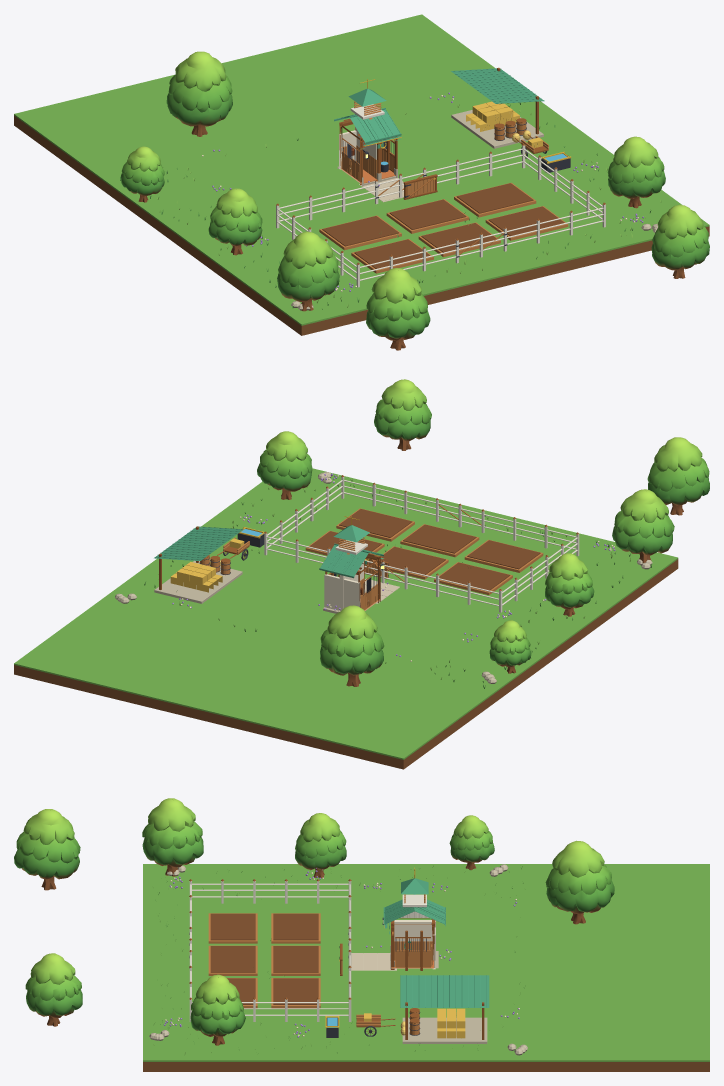
Rendered from Ranch.glb.
The picture shows the model from 3 angles, top to bottom: view 1: azimuth 30°, elevation 25°; view 2: azimuth 150°, elevation 25°; view 3: azimuth 270°, elevation 25°; orthographic projection. The views are drawn at different scales.
Visible parts, largest first — view 1: GROUND • turf, GROUND • earth, FIELD • Limewashed timber, TREES • round 6, TREES • round 4, TREES • round 2, TREES • round 5, TREES • round 3, TREES • round 7, SHED • Sage standing seam roof, TREES • round 1, FIELD • bed 1 soil (+10 smaller); view 2: GROUND • turf, GROUND • earth, FIELD • Limewashed timber, TREES • round 6, TREES • round 4, TREES • round 2, TREES • round 5, TREES • round 3, TREES • round 7, SHED • Sage standing seam roof, TREES • round 1, FIELD • bed 5 soil (+9 smaller); view 3: GROUND • turf, GROUND • earth, TREES • round 6, TREES • round 4, TREES • round 2, SHED • Sage standing seam roof, TREES • round 5, FIELD • Limewashed timber, TREES • round 3, TREES • round 7, TREES • round 1, SHED • Foundation limestone (+13 smaller).
Boxes of the visible parts, box(x1,y1,x2,y2) form: GROUND • turf: box(14, 14, 709, 325); GROUND • earth: box(14, 115, 709, 335); FIELD • Limewashed timber: box(276, 145, 605, 287); TREES • round 6: box(166, 51, 232, 136); TREES • round 4: box(366, 268, 430, 350); TREES • round 2: box(277, 231, 339, 311); TREES • round 5: box(651, 204, 709, 278); TREES • round 3: box(607, 136, 665, 208); TREES • round 7: box(208, 188, 262, 255); SHED • Sage standing seam roof: box(451, 68, 544, 103); TREES • round 1: box(120, 146, 164, 202); FIELD • bed 1 soil: box(322, 216, 398, 246); GROUND • turf: box(14, 468, 678, 759); GROUND • earth: box(14, 559, 678, 769); FIELD • Limewashed timber: box(264, 477, 579, 612); TREES • round 6: box(320, 605, 384, 686); TREES • round 4: box(647, 437, 709, 515); TREES • round 2: box(612, 489, 674, 562); TREES • round 5: box(374, 379, 431, 450); TREES • round 3: box(257, 431, 312, 499); TREES • round 7: box(545, 553, 594, 616); SHED • Sage standing seam roof: box(154, 527, 242, 560); TREES • round 1: box(489, 620, 531, 673); FIELD • bed 5 soil: box(403, 524, 476, 553); GROUND • turf: box(143, 864, 709, 1061); GROUND • earth: box(143, 1062, 709, 1071); TREES • round 6: box(545, 840, 614, 924); TREES • round 4: box(14, 809, 80, 890); TREES • round 2: box(142, 798, 203, 876); SHED • Sage standing seam roof: box(400, 975, 489, 1007); TREES • round 5: box(25, 953, 82, 1026); FIELD • Limewashed timber: box(189, 881, 351, 1021); TREES • round 3: box(190, 974, 245, 1045); TREES • round 7: box(295, 813, 346, 878); TREES • round 1: box(449, 815, 494, 870); SHED • Foundation limestone: box(402, 1017, 522, 1055).
Bounding box in the file's own units: 34.87 × 8.44 × 50.94.
